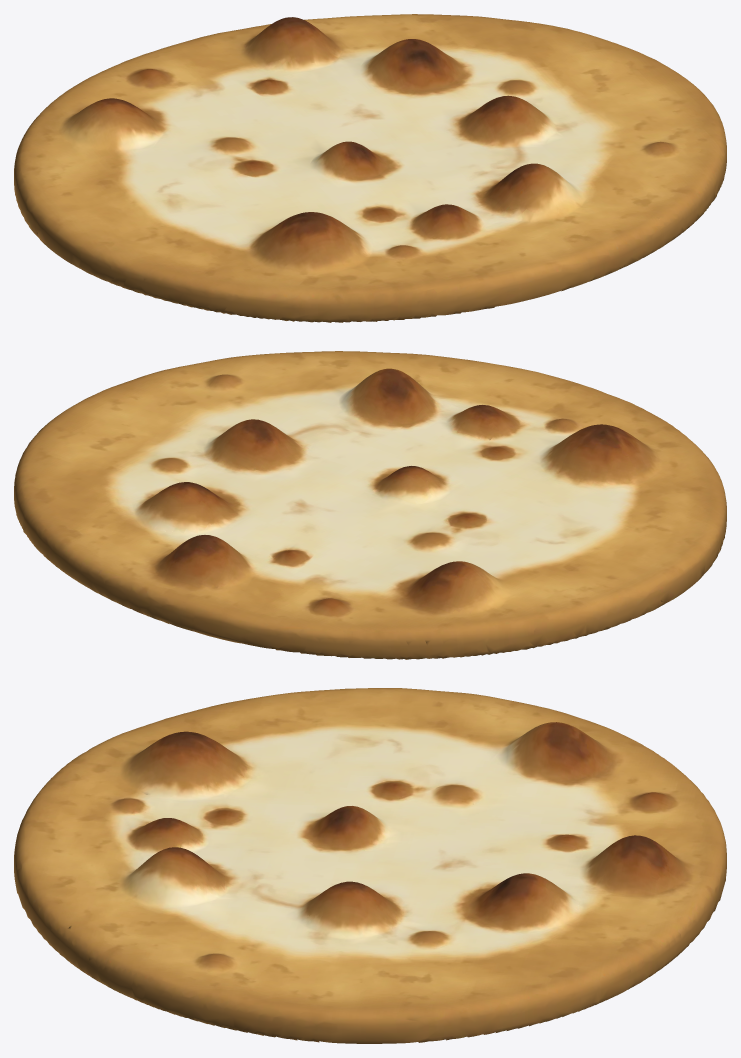
Rendered from flatbread--cheese-ground.glb.
The picture shows the model from 3 angles, top to bottom: view 1: azimuth 30°, elevation 25°; view 2: azimuth 150°, elevation 25°; view 3: azimuth 270°, elevation 25°; orthographic projection. The views are drawn at different scales.
Visible parts, largest first — view 1: flatbread_cheese-ground; view 2: flatbread_cheese-ground; view 3: flatbread_cheese-ground.
Part boxes in pixels (bbox=[...]): flatbread_cheese-ground: bbox=[14, 14, 726, 322]; flatbread_cheese-ground: bbox=[14, 351, 726, 659]; flatbread_cheese-ground: bbox=[14, 688, 726, 1043].
Size of the model in its own units: 0.9981 by 0.0948 by 0.9017.
Materials: 1 (1 with a texture image).
